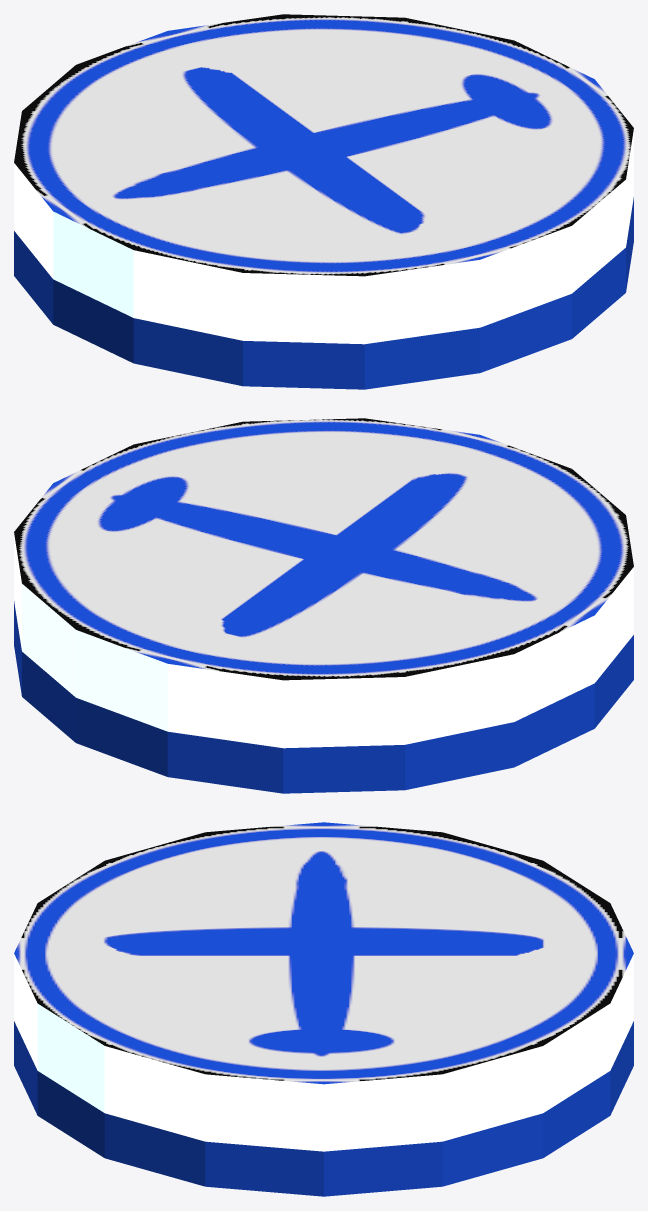
Rendered from piece_blue.glb.
3 renders of one model, top to bottom at view 1: azimuth 30°, elevation 25°; view 2: azimuth 150°, elevation 25°; view 3: azimuth 270°, elevation 25°, orthographic.
Parts seen in each view (by area): view 1: Cylinder; view 2: Cylinder; view 3: Cylinder.
Boxes of the visible parts, x1,y1,x2,y2 form: Cylinder: (14,14,633,389); Cylinder: (14,418,633,793); Cylinder: (14,822,633,1196).
Bounding box in the file's own units: 0.5 × 0.1 × 0.5.
Materials: 2 (1 with a texture image).
